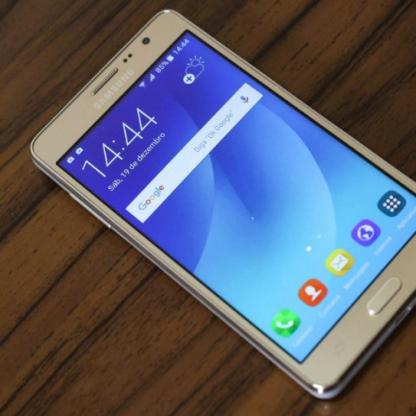SMARTPHONE: (28, 7, 415, 403)
